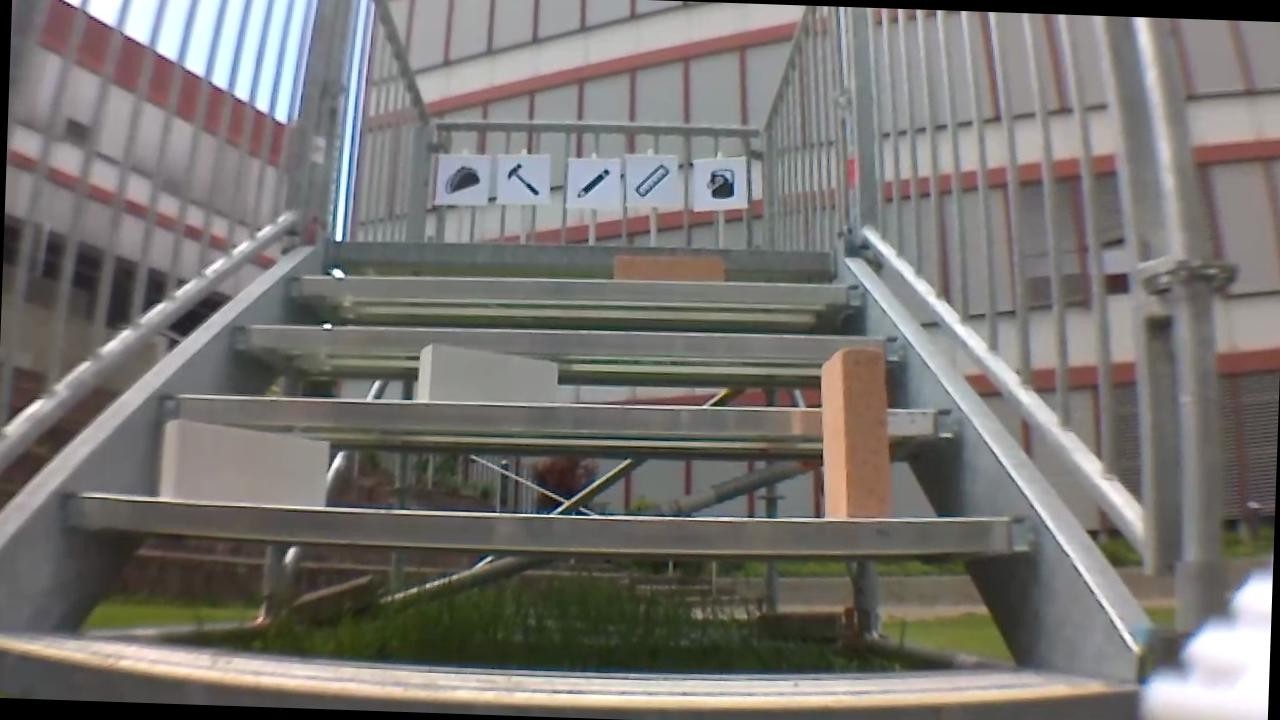brick: (159, 419, 327, 507), (814, 346, 890, 518), (418, 344, 558, 405), (611, 249, 723, 281)
bucket: (699, 163, 737, 202)
edge: (59, 485, 1034, 564), (159, 382, 955, 447), (231, 312, 907, 367), (288, 264, 865, 311), (325, 232, 837, 274)
hammer: (501, 158, 543, 199)
pencil: (571, 161, 614, 202)
ruler: (631, 157, 676, 202)
taco: (438, 156, 482, 199)
